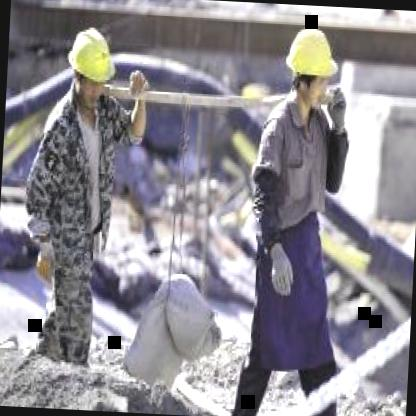helmet: (277, 17, 340, 114), (62, 19, 121, 107)
